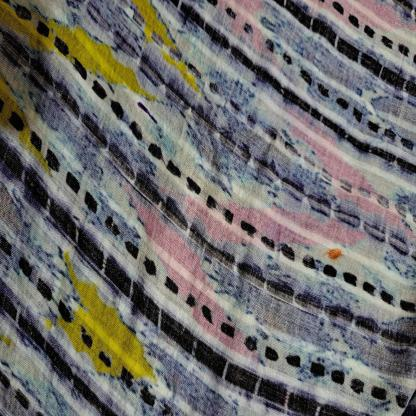spot: (326, 240, 344, 262)
